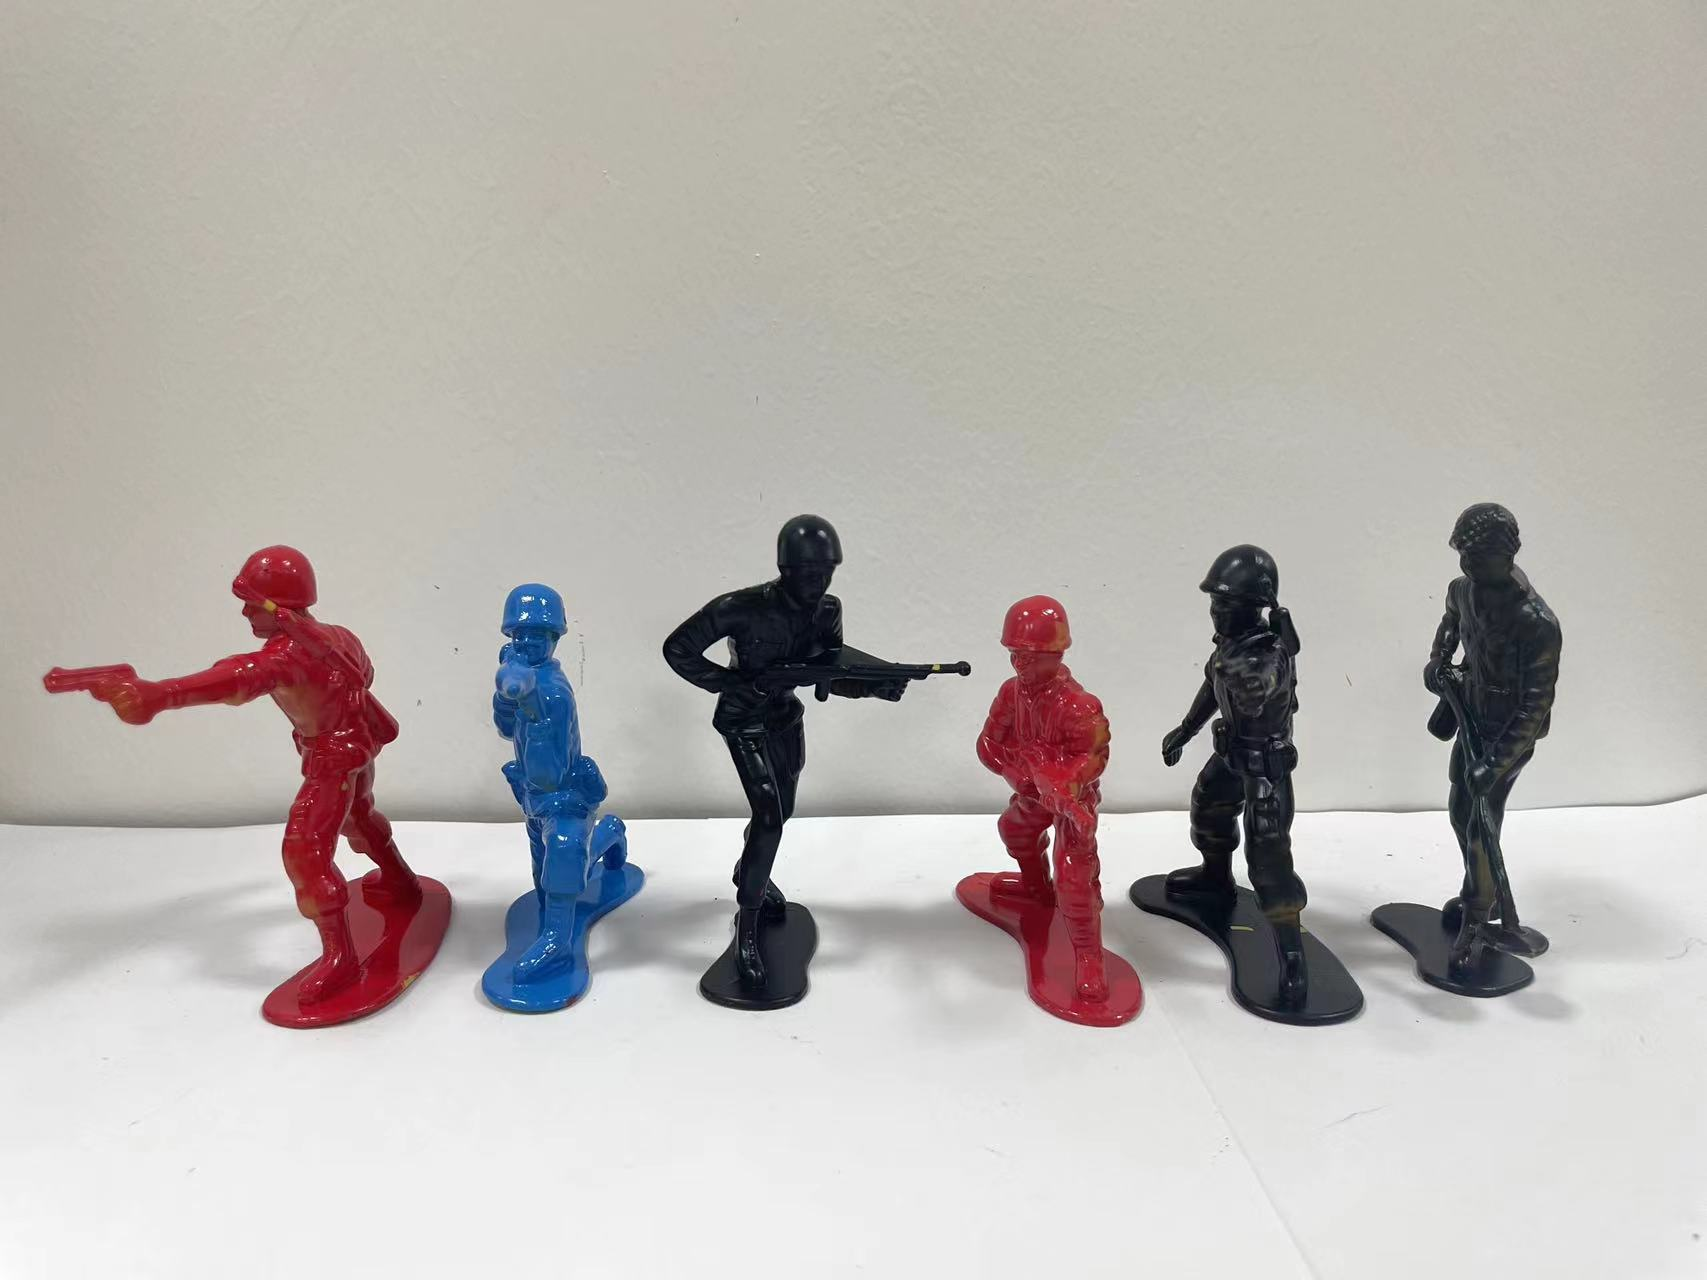black: (664, 502, 958, 1077), (1374, 460, 1617, 1086), (1147, 524, 1366, 1074)
blue: (454, 549, 640, 1080)
red: (34, 531, 445, 1074), (970, 570, 1155, 1080)
